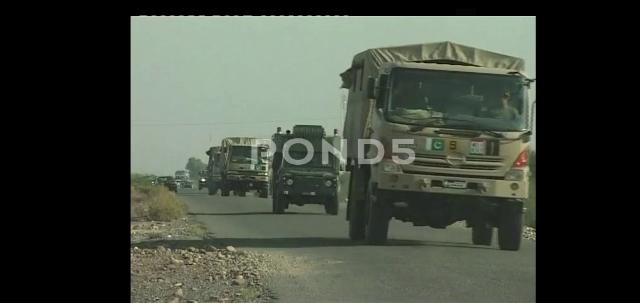plate: (442, 178, 471, 190)
